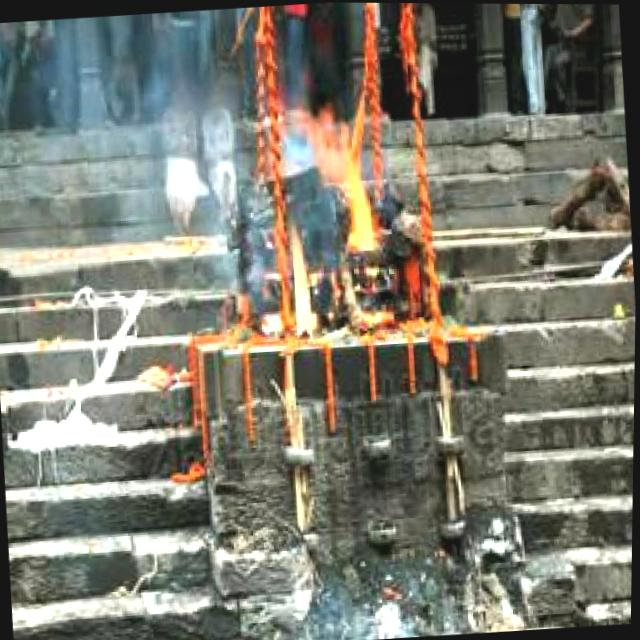helmet: (305, 99, 386, 257), (269, 218, 336, 336)
